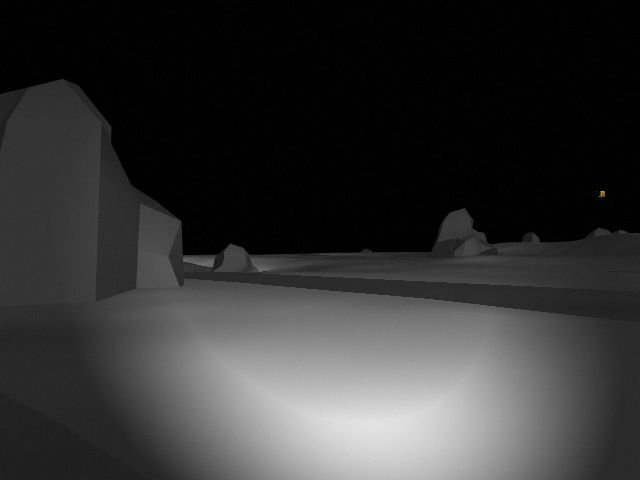cubesat: (599, 189, 606, 198)
